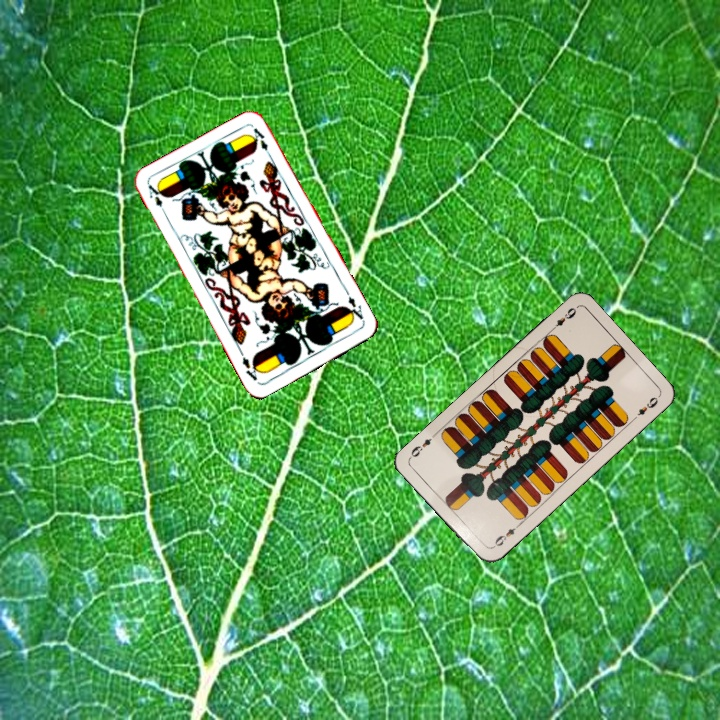E9: (488, 520, 522, 551), (546, 303, 579, 334)
EA: (144, 180, 169, 218), (342, 292, 367, 325)
